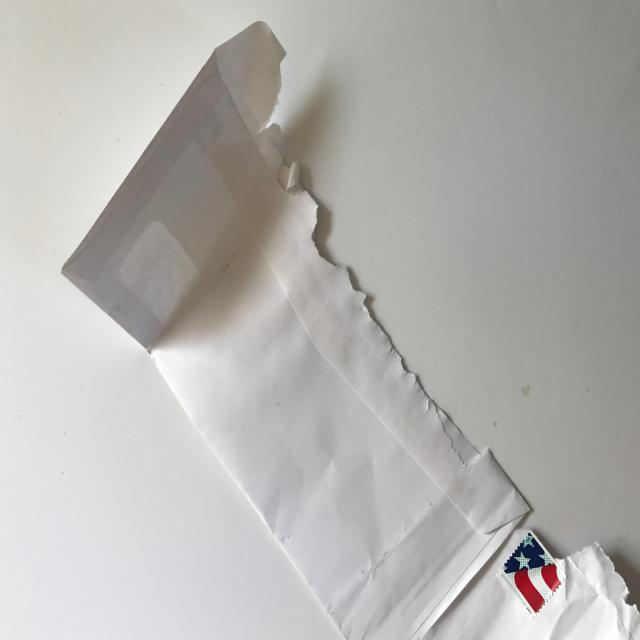paper: (42, 4, 640, 640)
